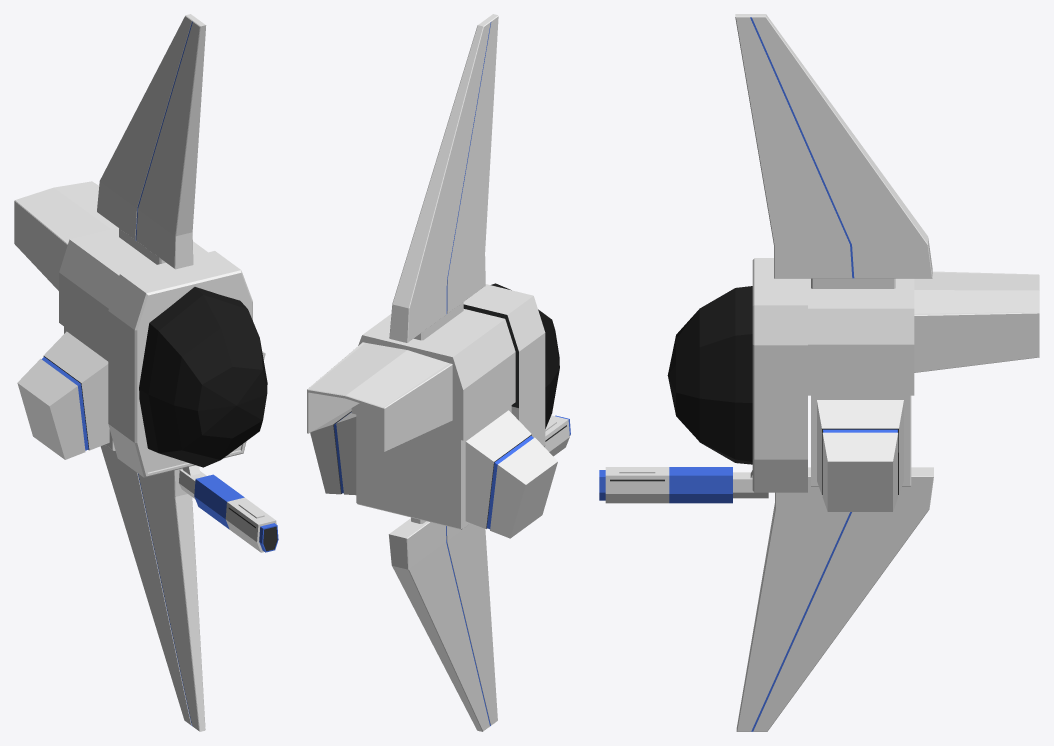
Rendered from spaceship_03.glb.
3 views of the same model, side by side, from view 1: azimuth 30°, elevation 25°; view 2: azimuth 150°, elevation 25°; view 3: azimuth 270°, elevation 25° (orthographic).
Parts seen in each view (by area): view 1: spaceship_003; view 2: spaceship_003; view 3: spaceship_003.
Boxes of the visible parts, bbox=[...] form: spaceship_003: bbox=[14, 14, 278, 731]; spaceship_003: bbox=[307, 14, 570, 731]; spaceship_003: bbox=[599, 14, 1039, 731].
Size of the model in its own units: 2.31 by 7.22 by 4.03.
1 material, 1 textured.
